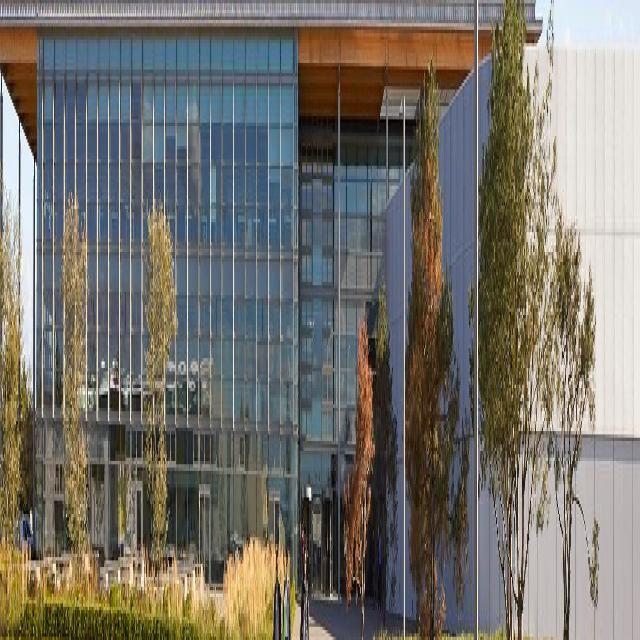door: (131, 480, 143, 582), (199, 489, 211, 588), (312, 494, 322, 600)
plant: (468, 0, 596, 637), (402, 66, 471, 637), (143, 193, 178, 568), (57, 194, 89, 569), (343, 309, 375, 637), (370, 269, 397, 613), (1, 247, 25, 611)
windows: (37, 32, 298, 568), (299, 119, 385, 595)
